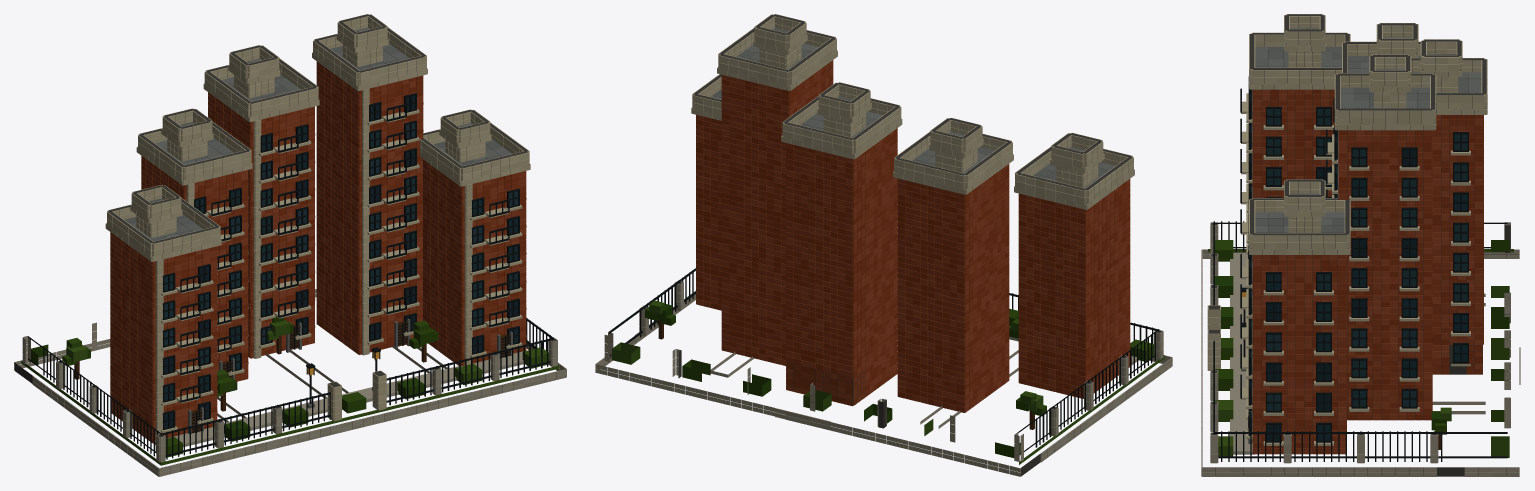
File: SM_StreetFrontage_079.fbx
3 views of the same model, side by side, from view 1: azimuth 30°, elevation 25°; view 2: azimuth 150°, elevation 25°; view 3: azimuth 270°, elevation 25° (orthographic). The views are drawn at different scales.
Parts seen in each view (by area): view 1: SM_StreetFrontage_079; view 2: SM_StreetFrontage_079; view 3: SM_StreetFrontage_079.
Boxes of the visible parts, bbox=[...] form: SM_StreetFrontage_079: bbox=[14, 14, 566, 476]; SM_StreetFrontage_079: bbox=[595, 14, 1172, 476]; SM_StreetFrontage_079: bbox=[1201, 14, 1520, 476].
Size of the model in its own units: 32 by 19.74 by 23.89.
